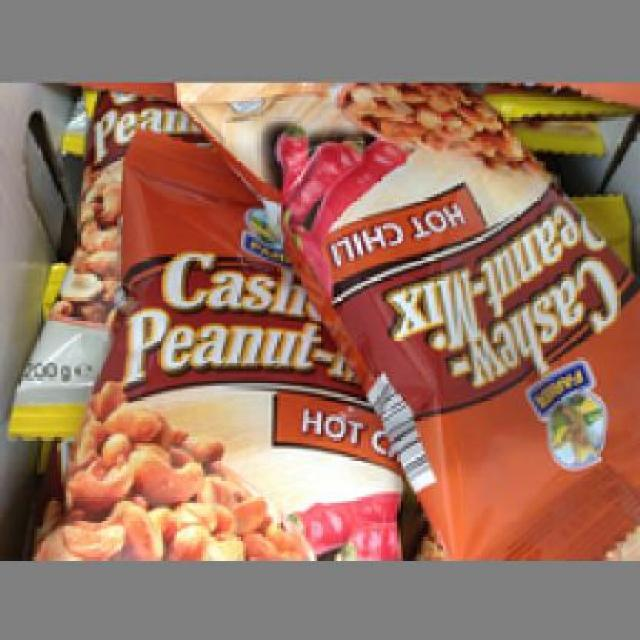Nuts: (172, 80, 638, 557), (31, 132, 407, 554)
